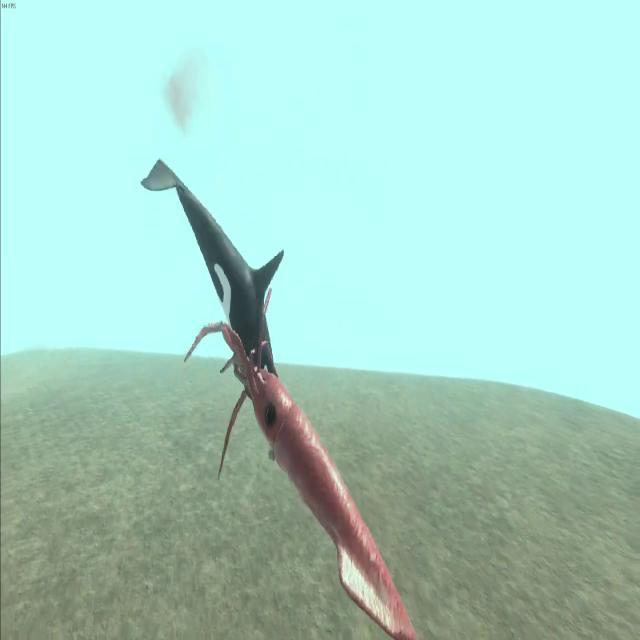squid: (184, 285, 418, 640)
